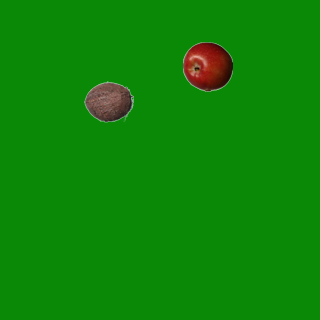Apple Braeburn: (182, 41, 232, 91)
Cocos: (83, 76, 133, 126)
